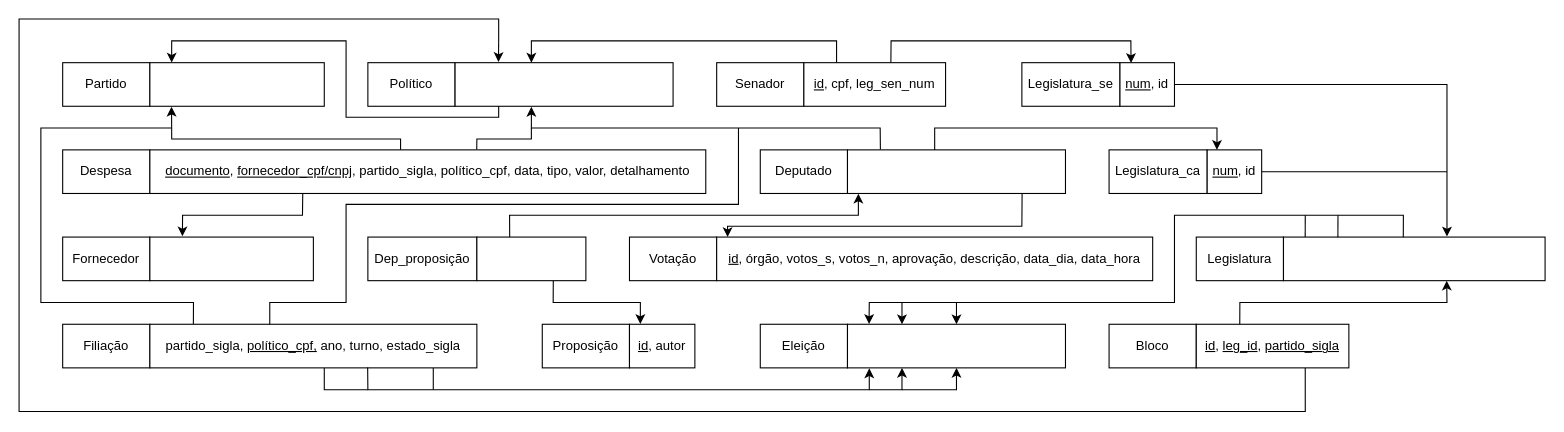
Image size: 1564x432. Some labels were removed from this diagram. The box of each missing label's shape, as (x1, y1, x2, y2) in pixels:
ano , turno , estado_sigla , resultado: (846, 323, 1065, 368)
ano, turno, estado_sigla, id , dt_ini, dt_fim: (1282, 236, 1545, 281)
cpf/cnpj , razão, atividade: (149, 236, 313, 281)
dep_id , pro_id: (476, 236, 586, 281)
id , cpf, leg_cam_num, id_votação: (846, 149, 1065, 193)
par_sigla, cpf , nome, sobrenome: (454, 62, 673, 106)
sigla , nome, número, cnpj: (149, 62, 324, 106)
